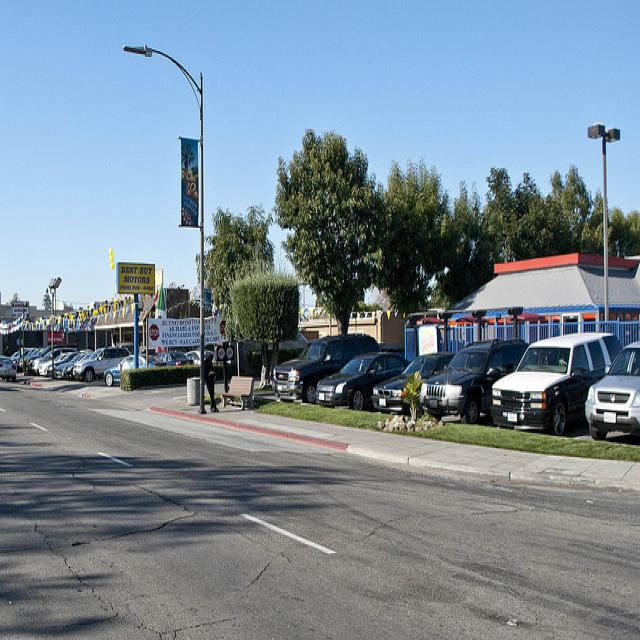Vehicle: (490, 331, 622, 438), (418, 338, 528, 424), (272, 331, 382, 406), (317, 351, 416, 410), (372, 349, 456, 416), (589, 342, 640, 440), (102, 354, 168, 387), (74, 346, 132, 382), (61, 353, 91, 379), (48, 353, 78, 376), (156, 349, 195, 365), (0, 353, 18, 382), (39, 356, 52, 376)
